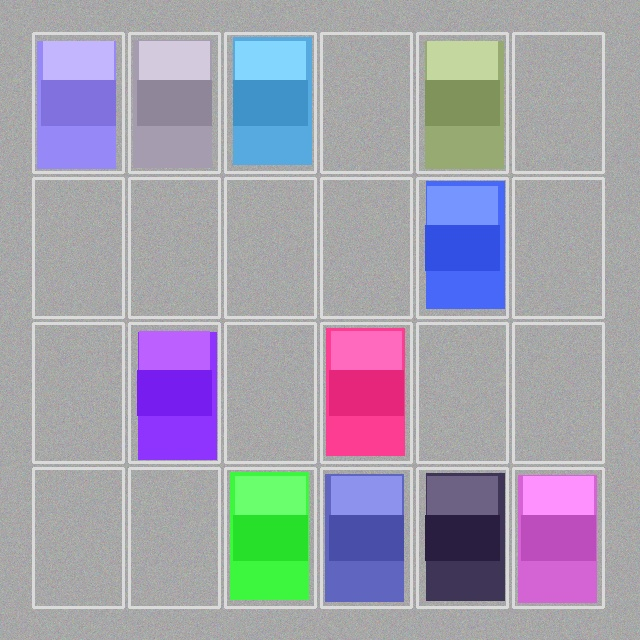space-empty: (323, 35, 409, 170), (515, 35, 601, 170), (35, 180, 121, 315), (131, 180, 217, 315), (227, 180, 313, 315), (323, 180, 409, 315), (515, 180, 601, 315), (35, 325, 121, 460), (227, 325, 313, 460), (419, 325, 505, 460), (515, 325, 601, 460), (35, 470, 121, 605), (131, 470, 217, 605)
space-occupied: (35, 35, 121, 170), (131, 35, 217, 170), (227, 35, 313, 170), (419, 35, 505, 170), (419, 180, 505, 315), (131, 325, 217, 460), (323, 325, 409, 460), (227, 470, 313, 605), (323, 470, 409, 605), (419, 470, 505, 605), (515, 470, 601, 605)
